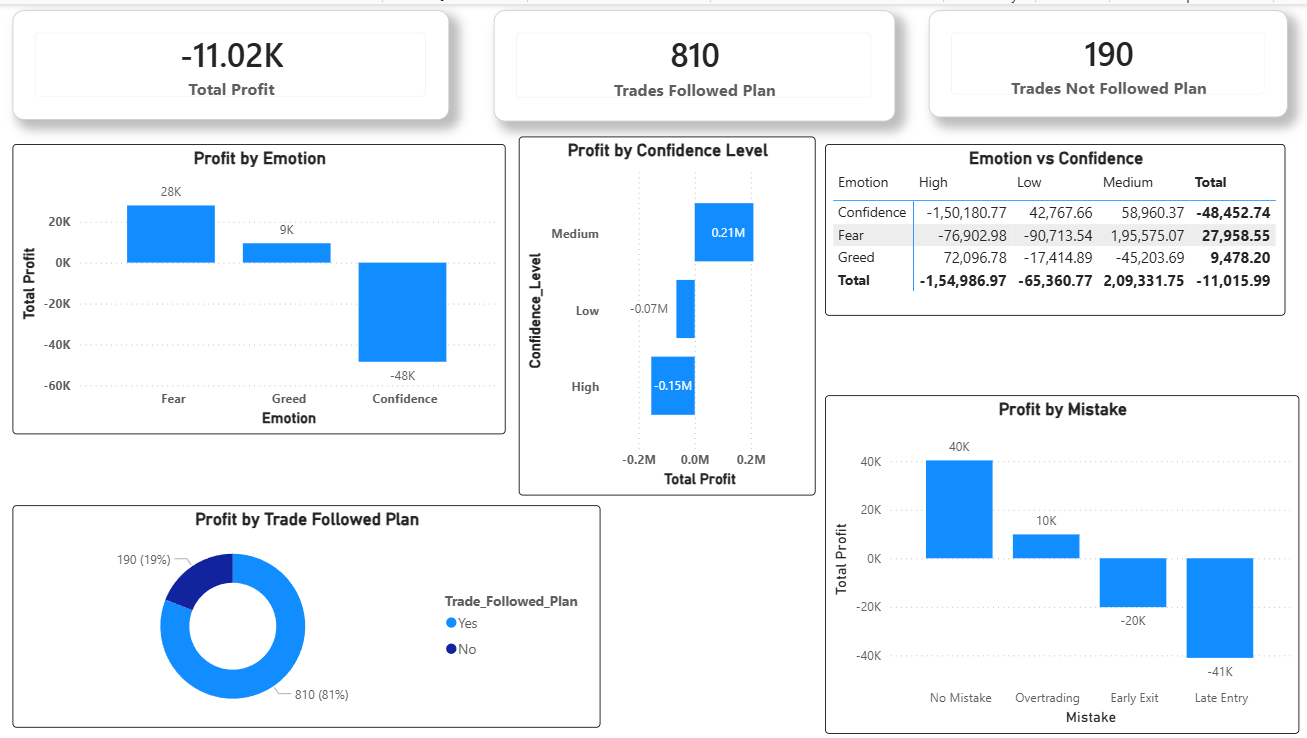

This screenshot's page, from the dashboard's own definition file:
{"tool":"powerbi","page":{"name":"Behavioral Analytics","canvas":[1280,720],"ordinal":3},"visuals":[{"type":"cardVisual","fields":{"Data":["trading_dataset_final.Total Profit"]},"box":[12.5,6.2,427.5,107.5],"z":0},{"type":"cardVisual","fields":{"Data":["trading_dataset_final.Trades Followed Plan"]},"box":[483,6.1,392.5,108.8],"z":1000},{"type":"cardVisual","fields":{"Data":["trading_dataset_final.Trades Not Followed Plan"]},"box":[908.8,6.2,351.2,105],"z":2000},{"type":"clusteredColumnChart","title":" Profit by Emotion","fields":{"Category":["trading_dataset_final.Emotion"],"Y":["trading_dataset_final.Total Profit"]},"box":[12.5,137.5,482.5,283.8],"z":3000},{"type":"barChart","title":"Profit by Confidence Level","fields":{"Category":["trading_dataset_final.Confidence_Level"],"Y":["trading_dataset_final.Total Profit"]},"box":[507.5,130,290,351.2],"z":4000},{"type":"columnChart","title":" Profit by Mistake","fields":{"Category":["trading_dataset_final.Mistake"],"Y":["trading_dataset_final.Total Profit"]},"box":[807.5,382.5,463.8,331.2],"z":5000},{"type":"donutChart","title":"Profit by Trade Followed Plan","fields":{"Category":["trading_dataset_final.Trade_Followed_Plan"],"Y":["CountNonNull(trading_dataset_final.Trade_ID)"]},"box":[12.5,490,575,217.5],"z":6000},{"type":"pivotTable","title":"Emotion vs Confidence ","fields":{"Rows":["trading_dataset_final.Emotion"],"Columns":["trading_dataset_final.Confidence_Level"],"Values":["trading_dataset_final.Total Profit"]},"box":[807,137.1,450.6,168.1],"z":7000}]}

Visuals, with their boxes in screenshot pixels (x1, y1, x2, y2), scaled from the page's 1280x720 canvas onto the 1307x738 screenshot:
cardVisual - trading_dataset_final.Total Profit: detection(13, 6, 449, 117)
cardVisual - trading_dataset_final.Trades Followed Plan: detection(493, 6, 894, 118)
cardVisual - trading_dataset_final.Trades Not Followed Plan: detection(928, 6, 1287, 114)
" Profit by Emotion" clusteredColumnChart: detection(13, 141, 505, 432)
"Profit by Confidence Level" barChart: detection(518, 133, 814, 493)
" Profit by Mistake" columnChart: detection(825, 392, 1298, 732)
"Profit by Trade Followed Plan" donutChart: detection(13, 502, 600, 725)
"Emotion vs Confidence " pivotTable: detection(824, 141, 1284, 313)
